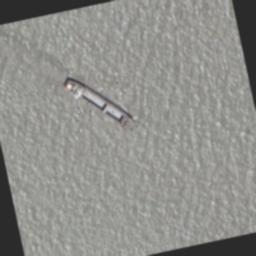boat: (61, 62, 138, 142)
